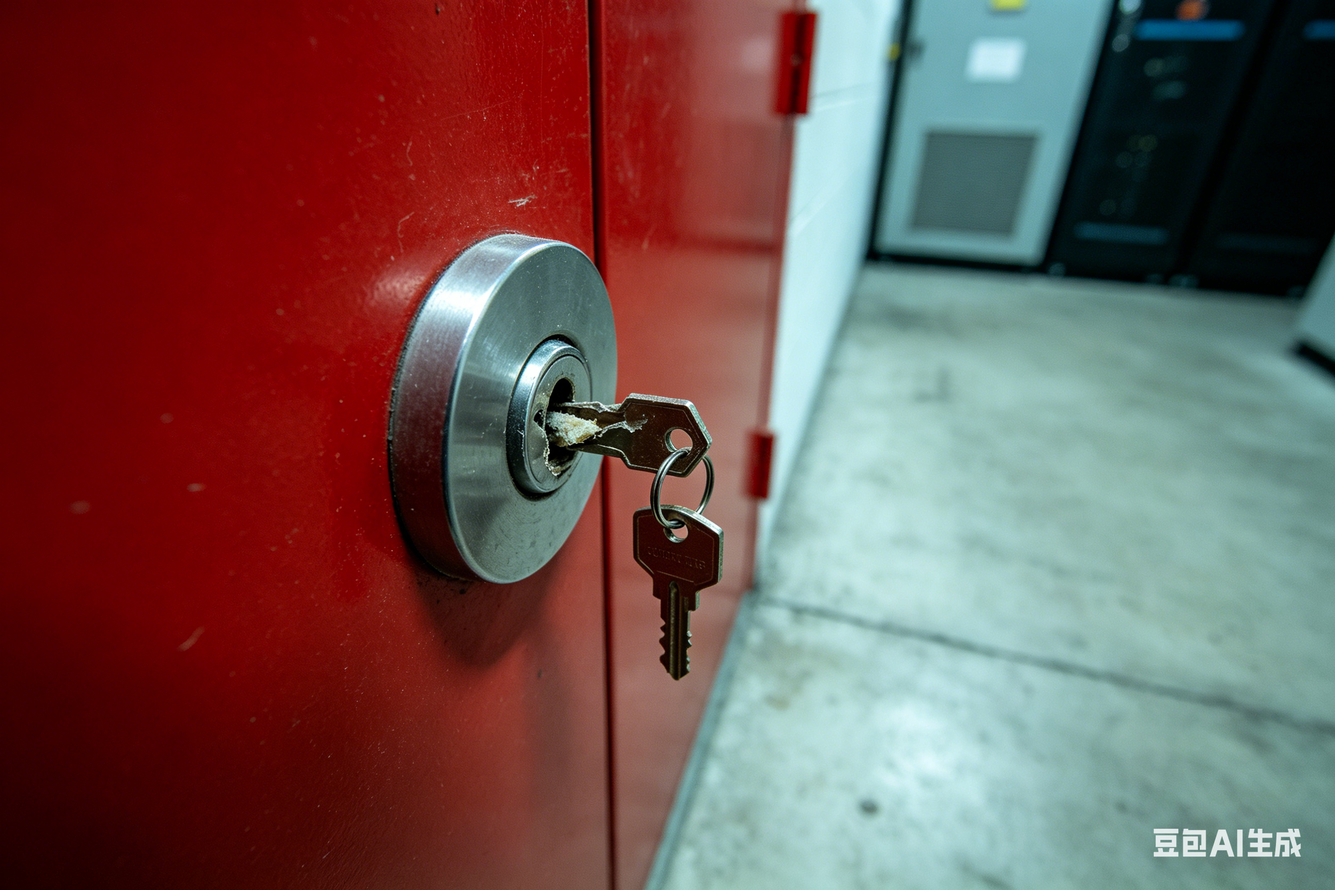BadLock: (511, 347, 718, 491)
